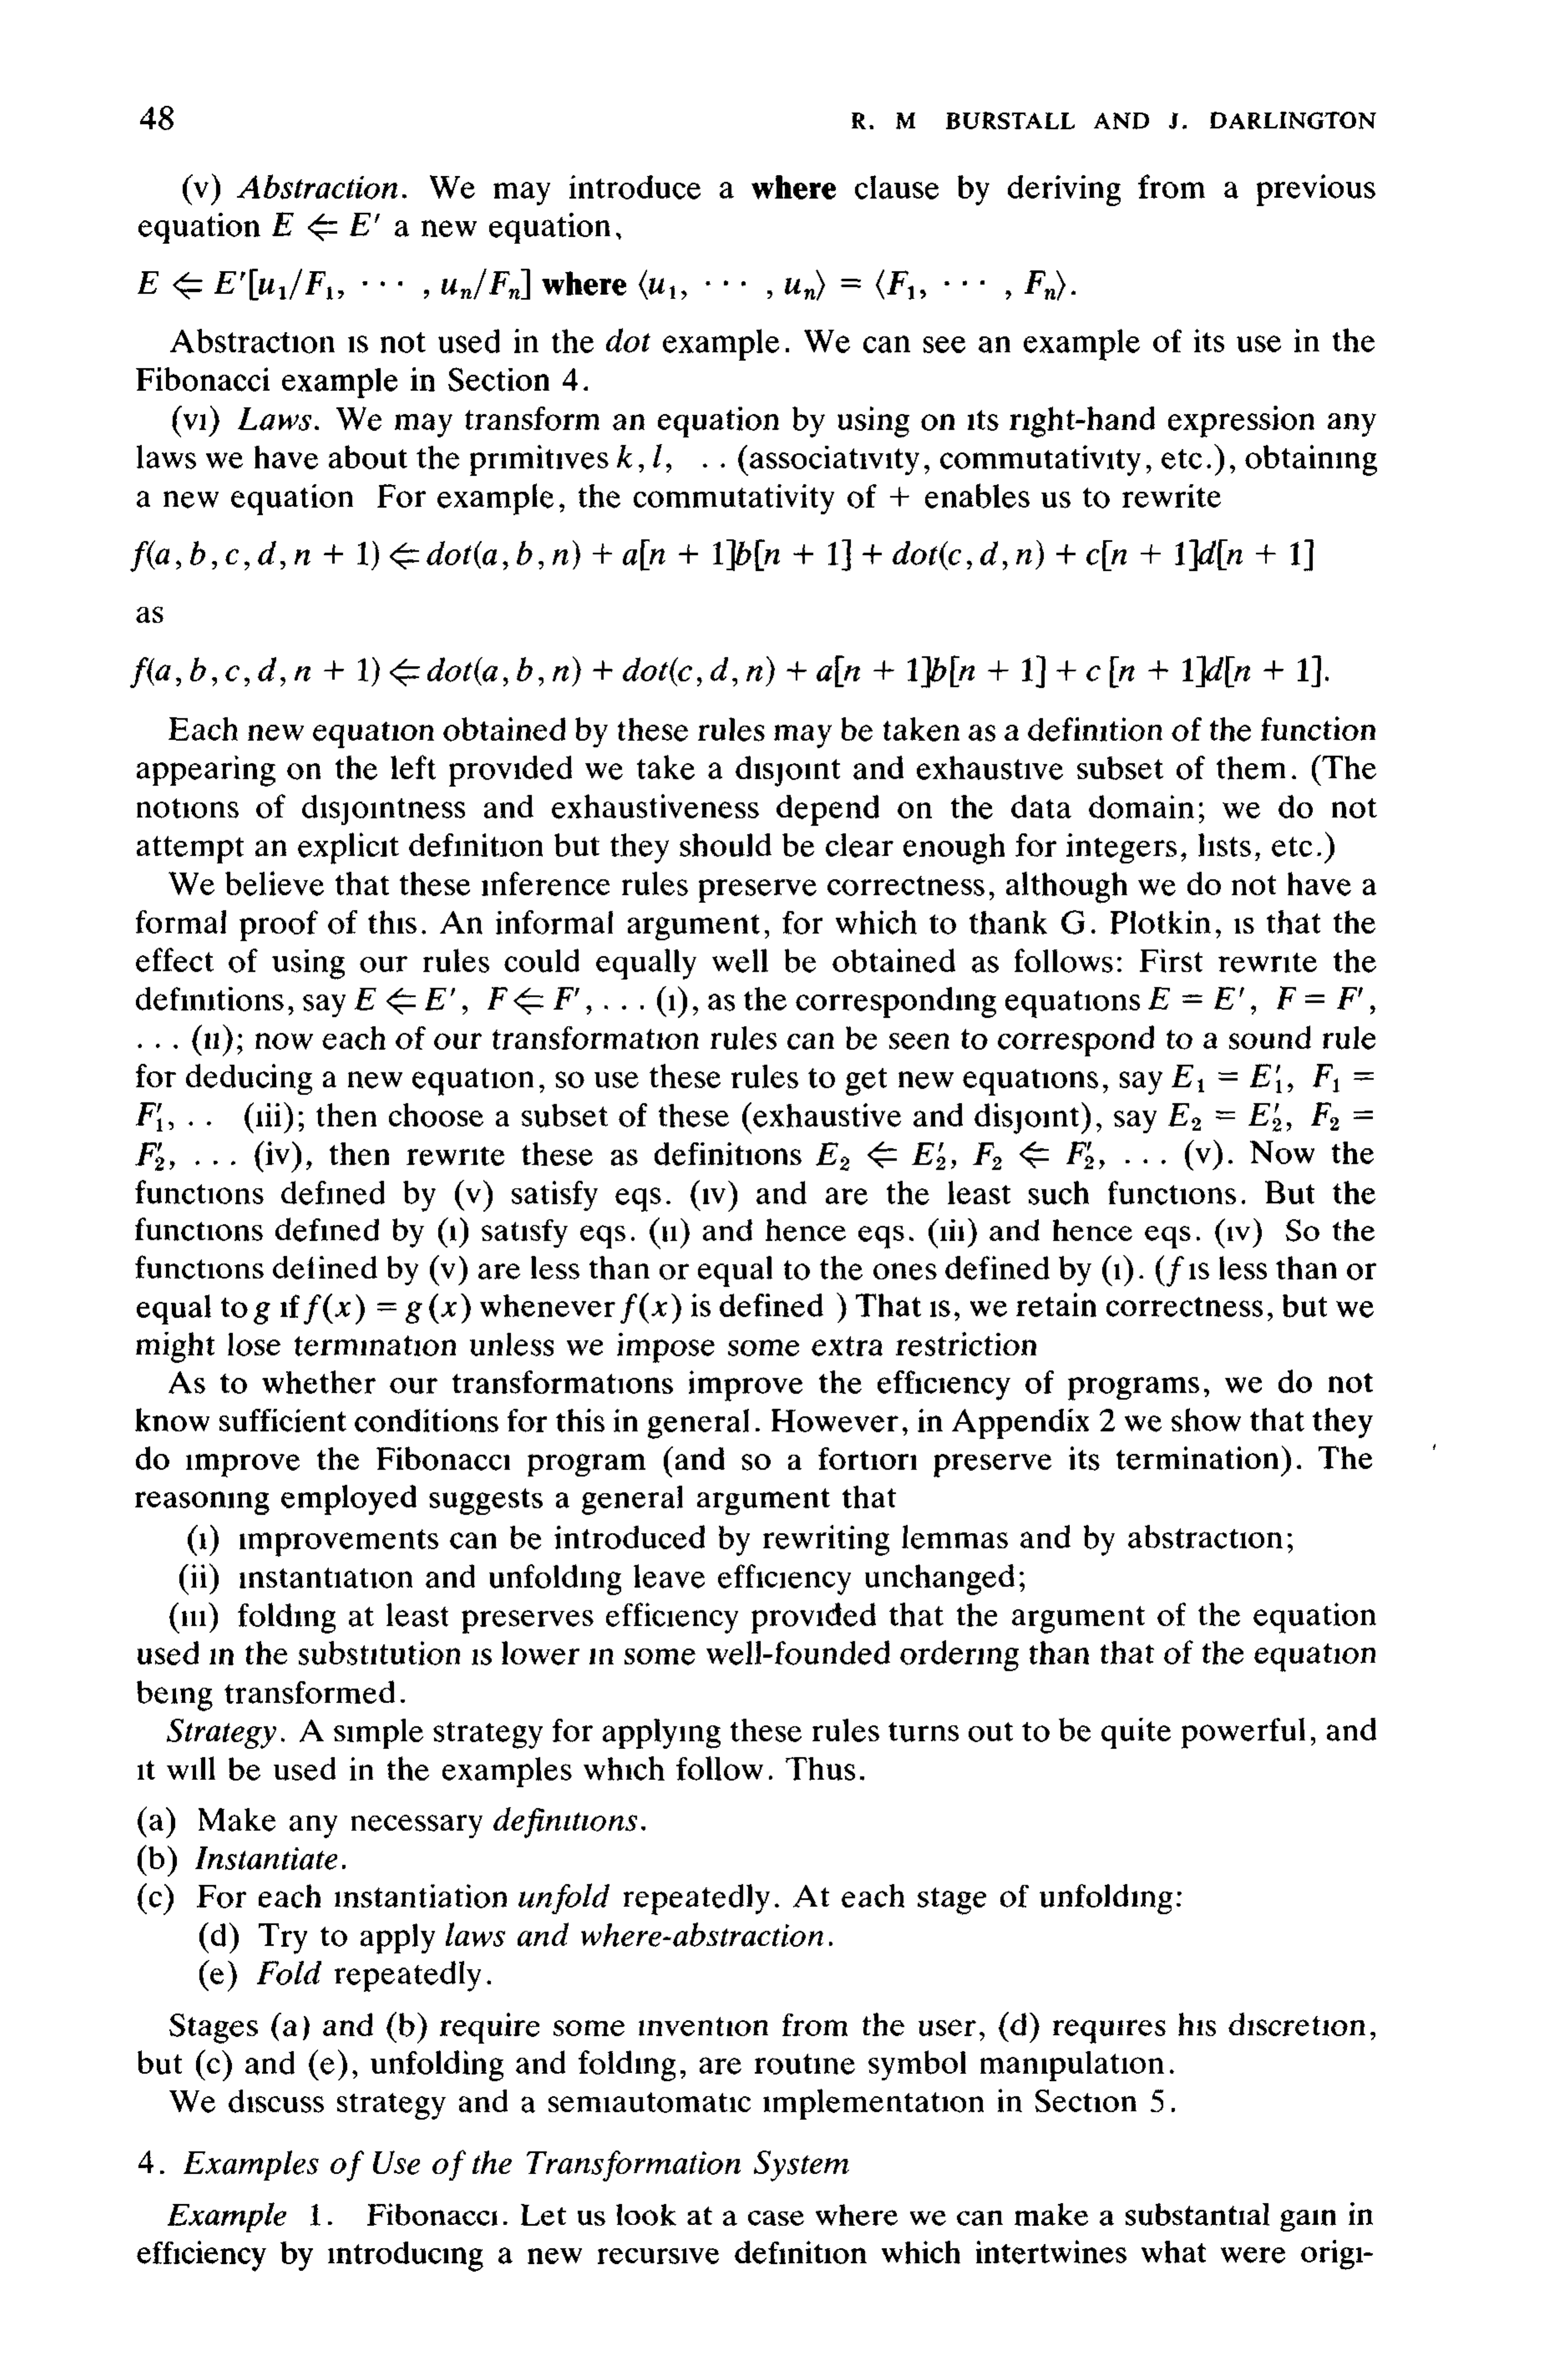maths: (131, 655, 1321, 688), (131, 540, 1313, 571), (138, 269, 530, 301), (304, 1293, 470, 1325), (785, 269, 926, 301), (816, 1141, 956, 1171), (974, 1141, 1105, 1171), (1168, 1103, 1292, 1132), (1171, 1064, 1293, 1094), (355, 987, 468, 1015), (273, 211, 379, 241), (1148, 987, 1257, 1015), (488, 987, 592, 1015), (1276, 986, 1363, 1010), (620, 1293, 682, 1323), (1313, 1064, 1374, 1092), (1311, 1103, 1372, 1131), (638, 269, 687, 301), (944, 281, 1012, 301), (1024, 271, 1066, 301), (706, 281, 773, 299), (135, 1143, 175, 1171), (136, 1103, 173, 1132), (1061, 910, 1085, 935), (1166, 1256, 1183, 1286), (253, 1302, 271, 1325), (890, 488, 909, 507), (617, 446, 633, 468), (654, 444, 662, 468), (196, 1160, 236, 1166), (1126, 1159, 1166, 1164), (605, 1005, 643, 1010)
